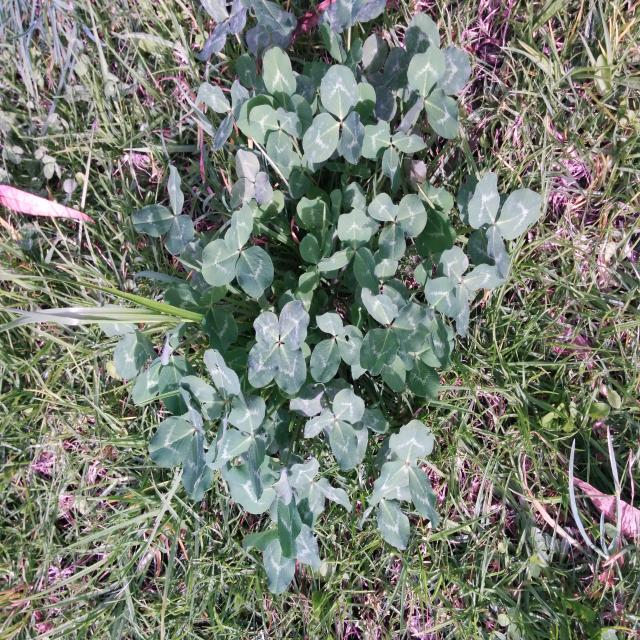Four Leaf Clover: (247, 299, 310, 395)
